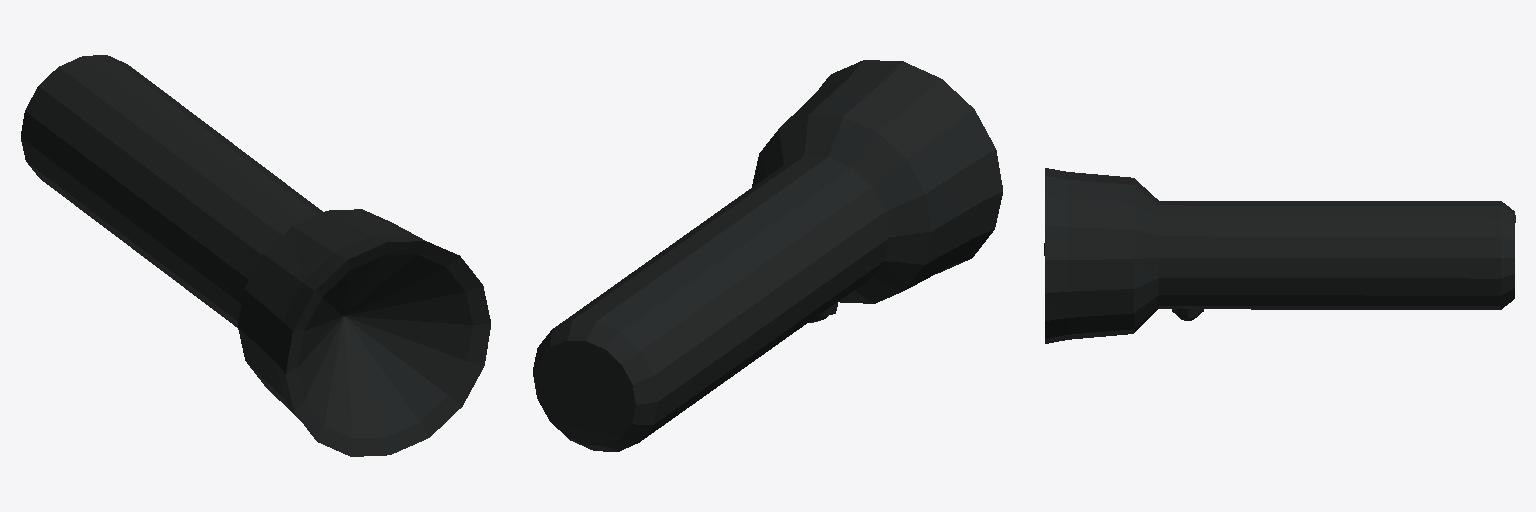
robot.urdf — object:
<?xml version="1.0"?>
<robot name="object">
  <link name="object">
    <visual>
      <origin xyz="0.0 0.0 0.0" rpy="-1.5707963 0 0"/>
      <geometry>
        <mesh filename="flashlight.stl" scale="1.2 1.2 0.8"/>
      </geometry>
      <material name="auto_color">
        <color rgba="0.18 0.19 0.19 1.0"/>
      </material>
    </visual>
    <collision>
      <origin xyz="0.0 0.0 0.0" rpy="-1.5707963 0 0"/>
      <geometry>
        <mesh filename="flashlight.stl" scale="1.2 1.2 0.8"/>
      </geometry>
    </collision>
  </link>
</robot>

--- Render facts (derived) ---
3 views of the same robot in one strip: view 1: azimuth 30°, elevation 25°; view 2: azimuth 150°, elevation 25°; view 3: azimuth 270°, elevation 25° (orthographic).
Model object with 1 links and 0 joints (none), rooted at object, posed all joints at 0.
Links seen in each view (by area): view 1: object; view 2: object; view 3: object.
Link boxes in pixels (bbox=[...]): object: bbox=[21, 55, 490, 456]; object: bbox=[533, 60, 1002, 451]; object: bbox=[1044, 168, 1515, 343].
Bounding box of the posed robot: 0.0418 × 0.1112 × 0.0414 m (x, y, z).
1 mesh visuals loaded from 1 distinct referenced files (1 binary STL).
